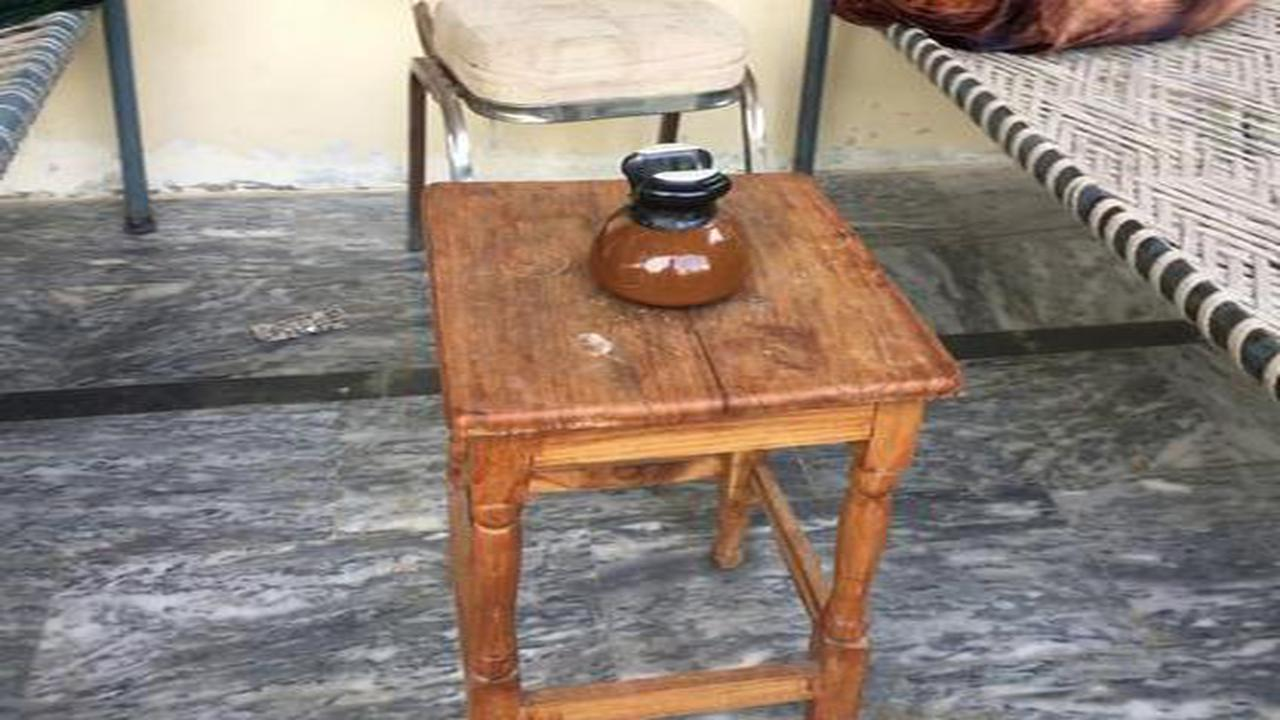insulator_pin: (573, 133, 776, 319)
